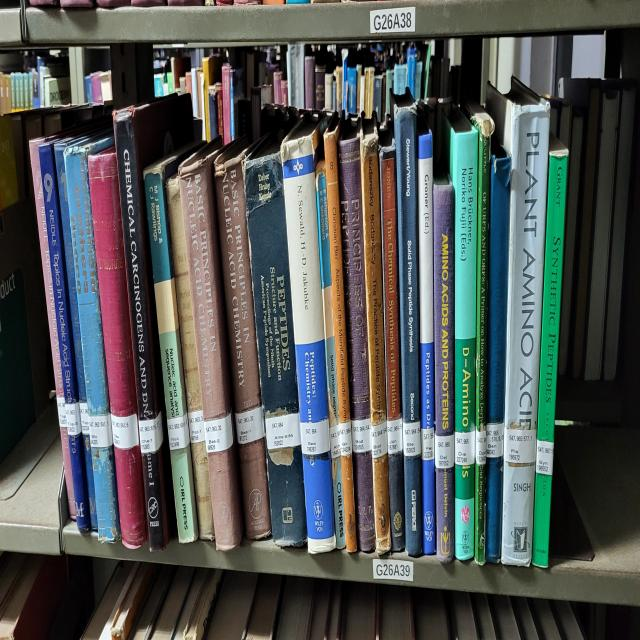Book: (114, 97, 194, 549), (486, 84, 550, 565), (244, 138, 308, 547), (179, 138, 242, 549), (88, 149, 148, 549), (281, 114, 335, 555), (64, 133, 120, 541), (214, 138, 271, 538), (144, 152, 199, 544), (39, 143, 90, 530), (30, 138, 76, 519), (166, 176, 214, 541), (55, 141, 98, 530), (338, 119, 375, 552), (532, 135, 568, 568), (444, 108, 478, 560), (324, 122, 358, 552), (465, 103, 495, 565), (360, 119, 391, 555), (394, 103, 422, 557), (315, 160, 345, 549), (316, 160, 345, 547), (380, 138, 405, 549), (432, 176, 455, 563), (416, 111, 435, 555), (488, 152, 511, 425)
Label: (265, 414, 301, 449), (204, 414, 234, 455), (504, 427, 536, 465), (235, 406, 265, 444), (300, 419, 330, 455), (139, 411, 162, 455), (111, 414, 139, 449), (168, 414, 190, 452), (89, 414, 112, 446), (455, 430, 475, 465), (536, 438, 554, 476), (402, 422, 421, 457), (435, 433, 454, 468), (351, 419, 371, 452), (371, 419, 388, 457), (486, 422, 504, 457), (188, 409, 205, 444), (388, 417, 402, 455), (65, 403, 81, 436), (339, 419, 352, 457), (421, 427, 435, 460), (329, 425, 341, 460), (475, 430, 486, 465), (79, 403, 90, 436), (56, 395, 66, 427)
